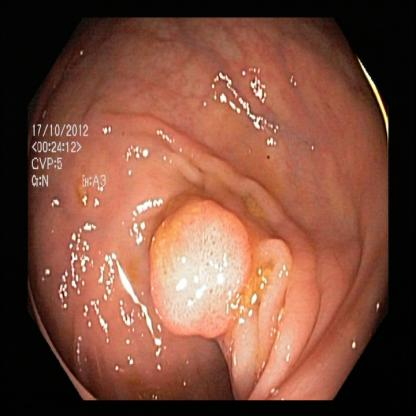Labels: (30, 116, 117, 203)
Polyps: (150, 193, 247, 345)
